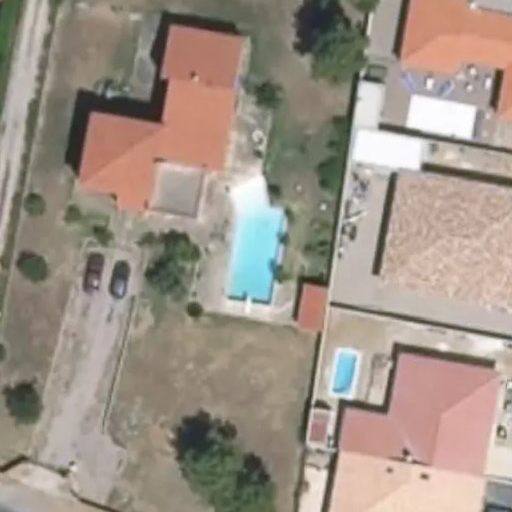pool: (225, 204, 282, 306), (333, 350, 358, 398)
